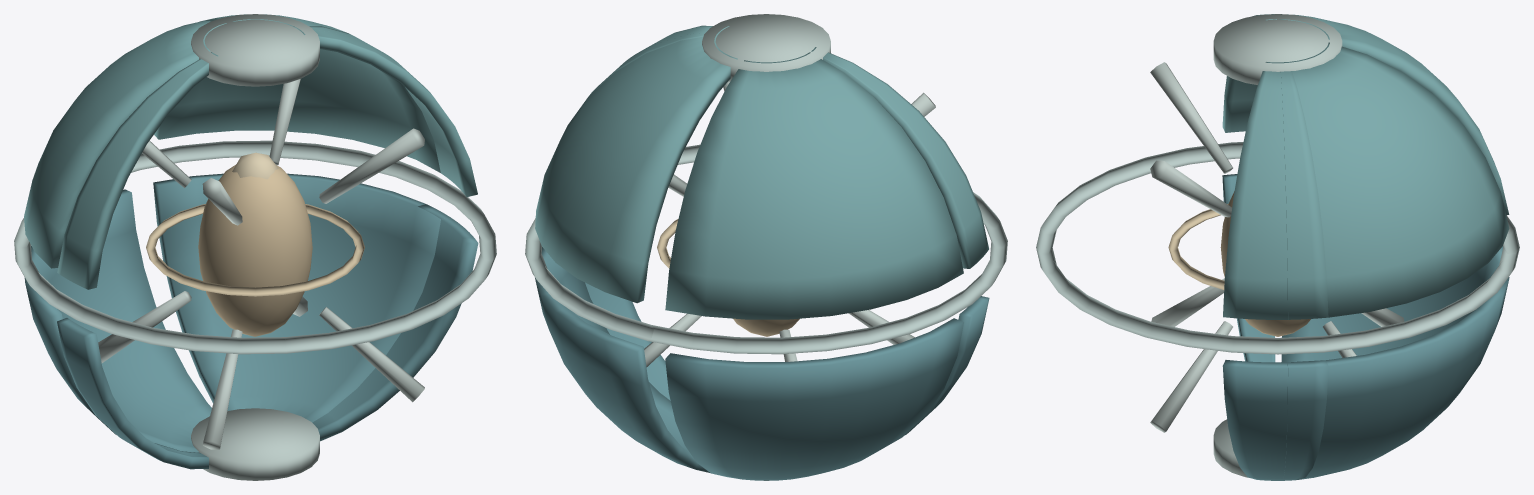
Rendered from ART-32.glb.
The picture shows the model from 3 angles, left to right: view 1: azimuth 30°, elevation 25°; view 2: azimuth 150°, elevation 25°; view 3: azimuth 270°, elevation 25°; orthographic projection.
Parts seen in each view (by area): view 1: world; view 2: world; view 3: world.
Part boxes in pixels (bbox=[...]): world: bbox=[14, 14, 496, 480]; world: bbox=[525, 14, 1007, 480]; world: bbox=[1036, 14, 1519, 480].
Size of the model in its own units: 2 by 1.88 by 2.
